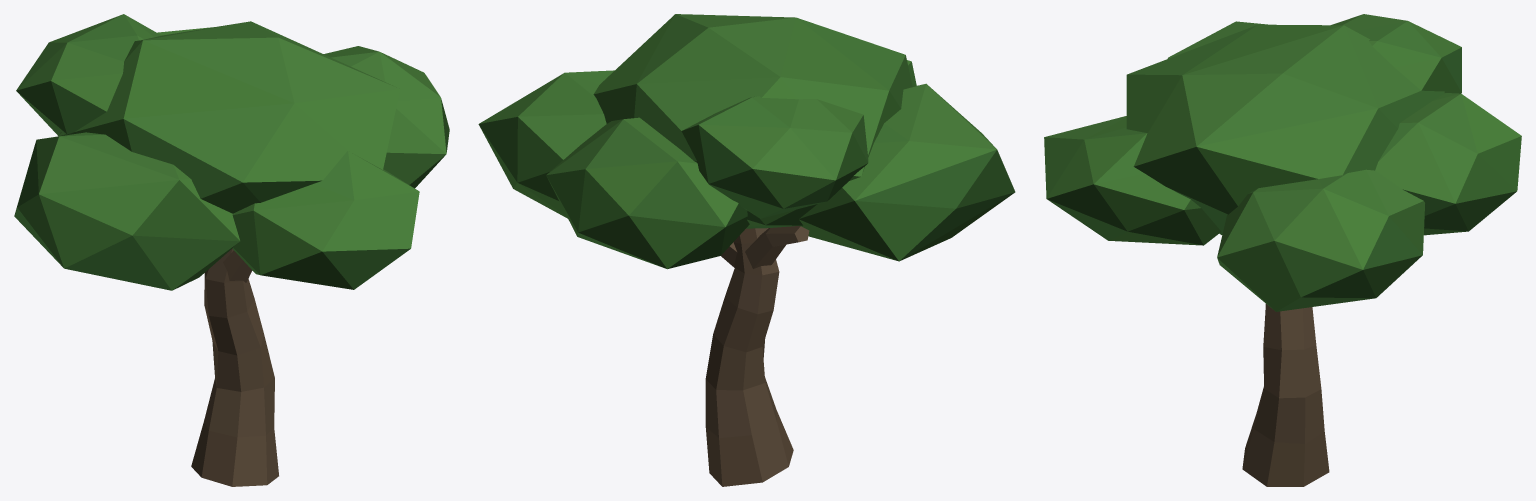
File: terebinth.glb
The picture shows the model from 3 angles, left to right: view 1: azimuth 30°, elevation 25°; view 2: azimuth 150°, elevation 25°; view 3: azimuth 270°, elevation 25°; orthographic projection. The views are drawn at different scales.
Parts seen in each view (by area): view 1: base; view 2: base; view 3: base.
Part boxes in pixels (<box>): base: <box>14,14,449,486</box>; base: <box>478,14,1015,486</box>; base: <box>1044,14,1521,486</box>.
Bounding box in the file's own units: 1.86 × 1.71 × 1.76.
